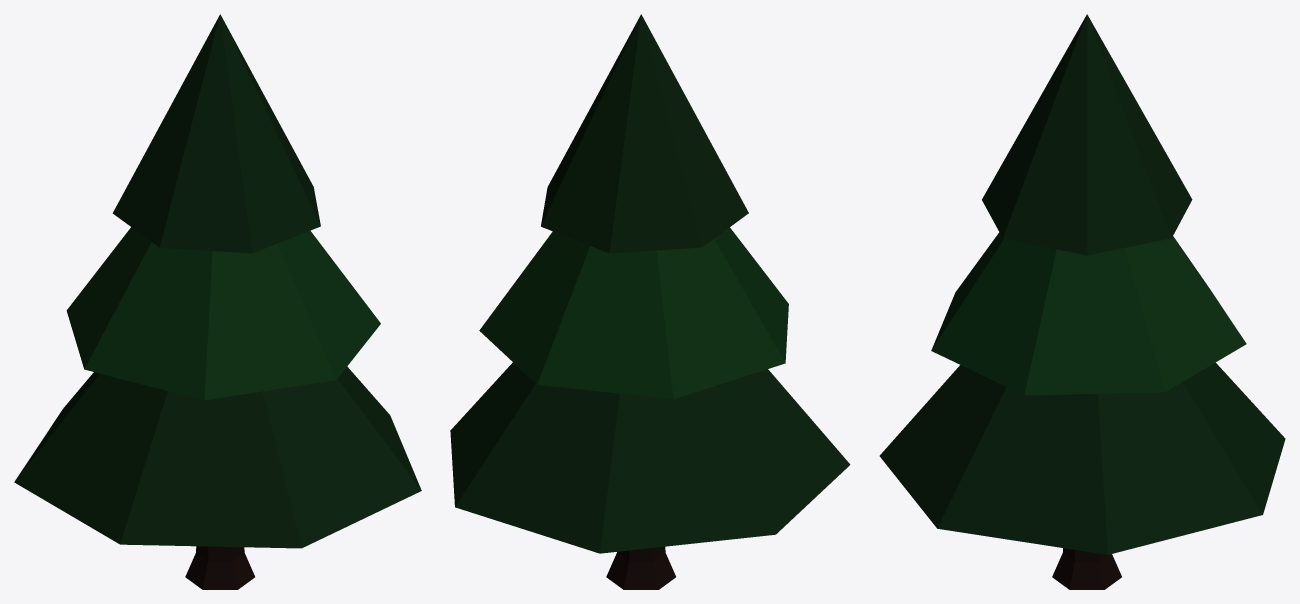
Rendered from Pinheiro.fbx.
The picture shows the model from 3 angles, left to right: view 1: azimuth 30°, elevation 25°; view 2: azimuth 150°, elevation 25°; view 3: azimuth 270°, elevation 25°; orthographic projection.
Visible parts, largest first — view 1: Pinheiro; view 2: Pinheiro; view 3: Pinheiro.
Part boxes in pixels (<box>): Pinheiro: <box>14,14,421,589</box>; Pinheiro: <box>450,14,850,589</box>; Pinheiro: <box>879,14,1285,589</box>.
Size of the model in its own units: 3 by 4.6 by 3.01.
